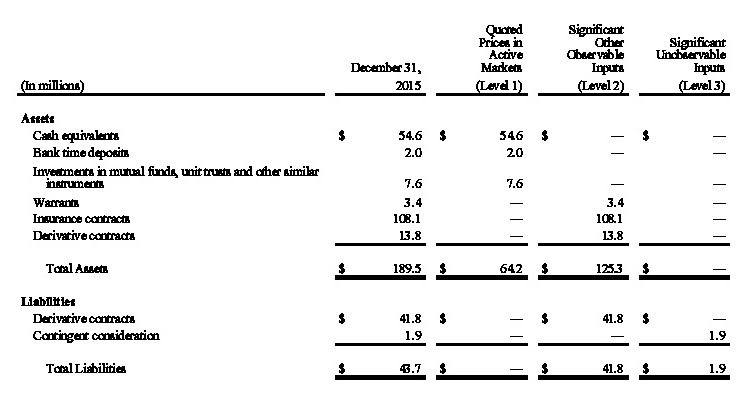table: (0, 0, 747, 399)
